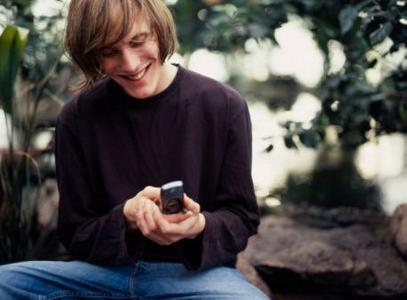person: (1, 1, 272, 300)
